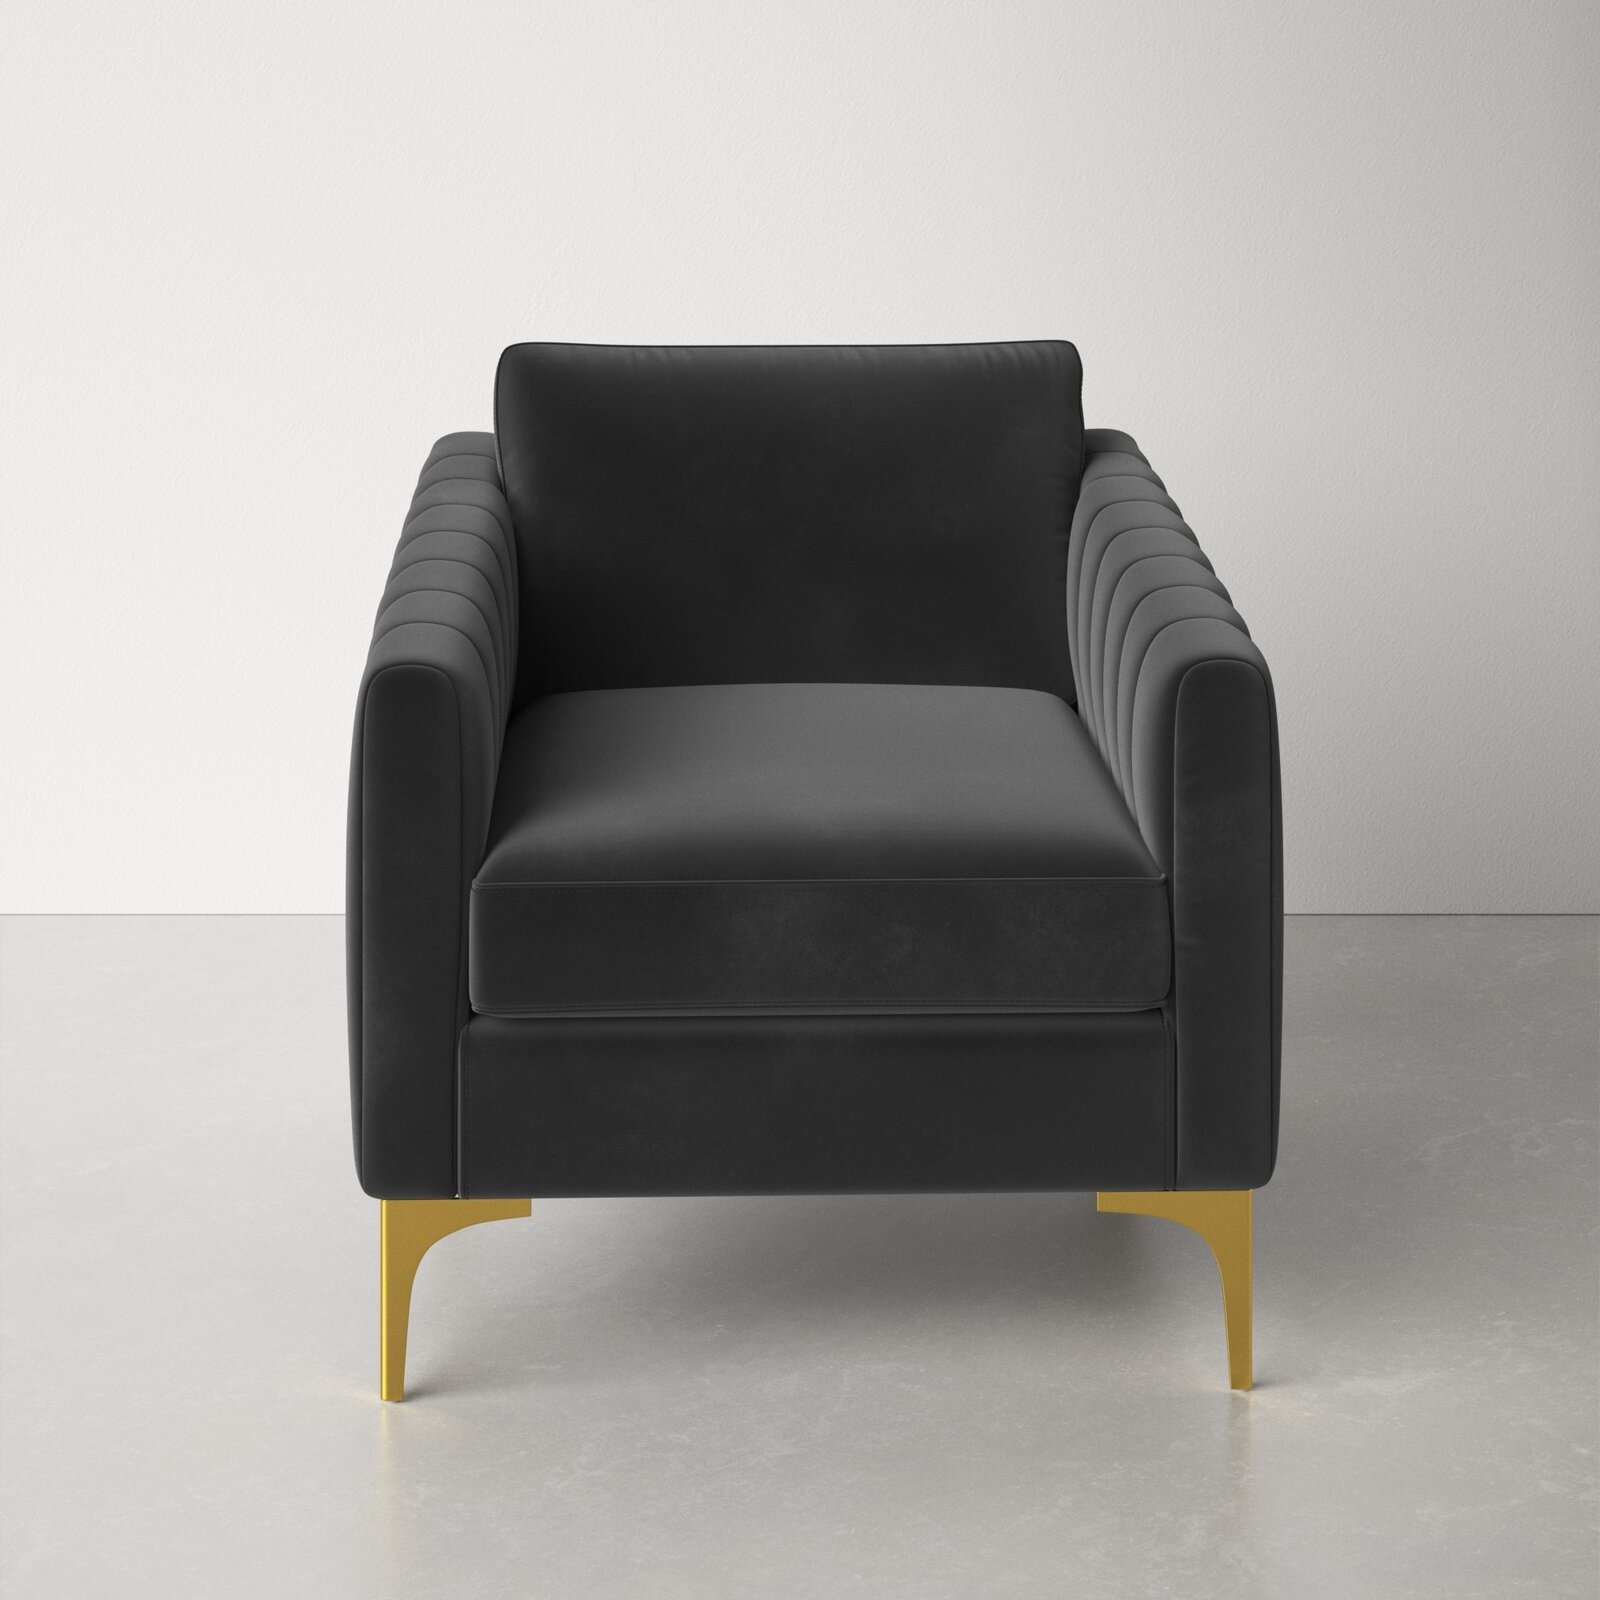obstacle: (350, 341, 1281, 1396)
